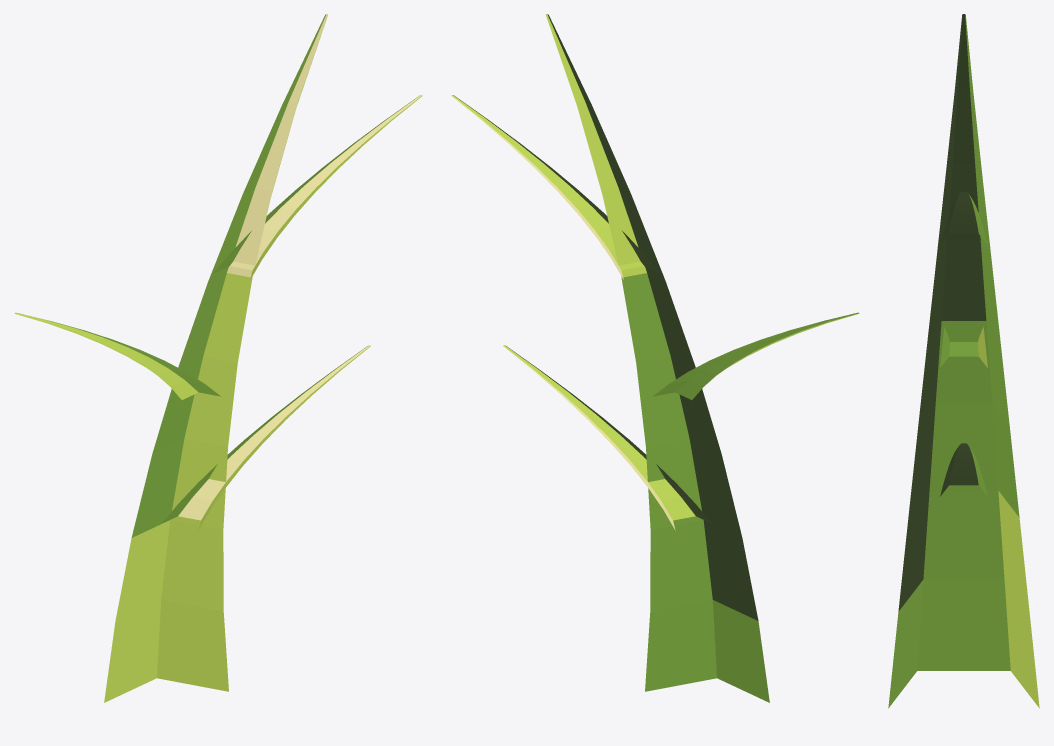
File: poison_thorn.glb
3 renders of one model, left to right at view 1: azimuth 30°, elevation 25°; view 2: azimuth 150°, elevation 25°; view 3: azimuth 270°, elevation 25°, orthographic. The views are drawn at different scales.
Parts seen in each view (by area): view 1: poison_thorn; view 2: poison_thorn; view 3: poison_thorn.
Boxes of the visible parts, x1,y1,x2,y2 form: poison_thorn: (14, 14, 422, 702); poison_thorn: (451, 14, 859, 702); poison_thorn: (888, 14, 1039, 708).
Bounding box in the file's own units: 1.44 × 2.2 × 0.3899.
